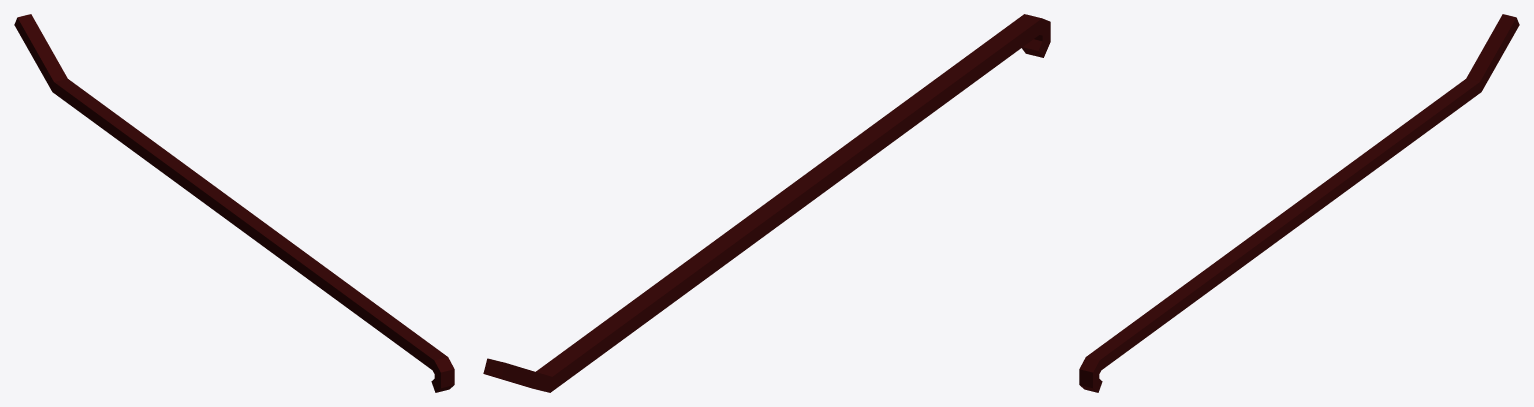
The model's file is original-42.obj.
3 views of the same model, side by side, from view 1: azimuth 30°, elevation 25°; view 2: azimuth 150°, elevation 25°; view 3: azimuth 330°, elevation 25° (orthographic). The views are drawn at different scales.
Visible parts, largest first — view 1: mesh96/mesh96-geometry#mesh96-geometry; view 2: mesh96/mesh96-geometry#mesh96-geometry; view 3: mesh96/mesh96-geometry#mesh96-geometry.
Part boxes in pixels (x1,y1,x2,y2): mesh96/mesh96-geometry#mesh96-geometry: (14, 14, 454, 392); mesh96/mesh96-geometry#mesh96-geometry: (483, 14, 1050, 392); mesh96/mesh96-geometry#mesh96-geometry: (1079, 14, 1519, 392).
Bounding box in the file's own units: 0.00942 × 0.0453 × 0.503.
